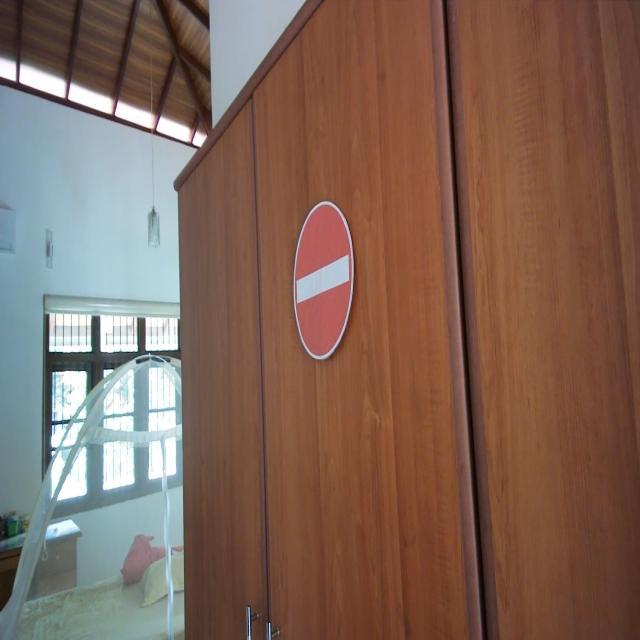no_entry: (292, 199, 357, 363)
